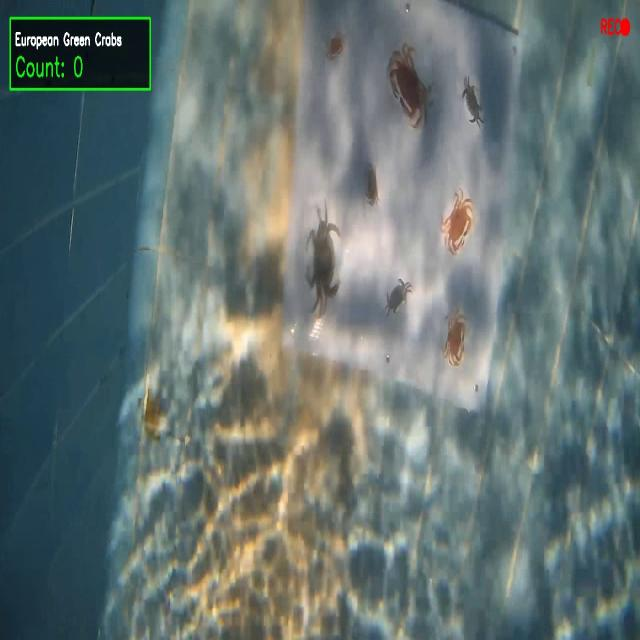European_Green_Crab: (305, 197, 340, 320), (379, 273, 419, 328), (459, 70, 487, 135)
